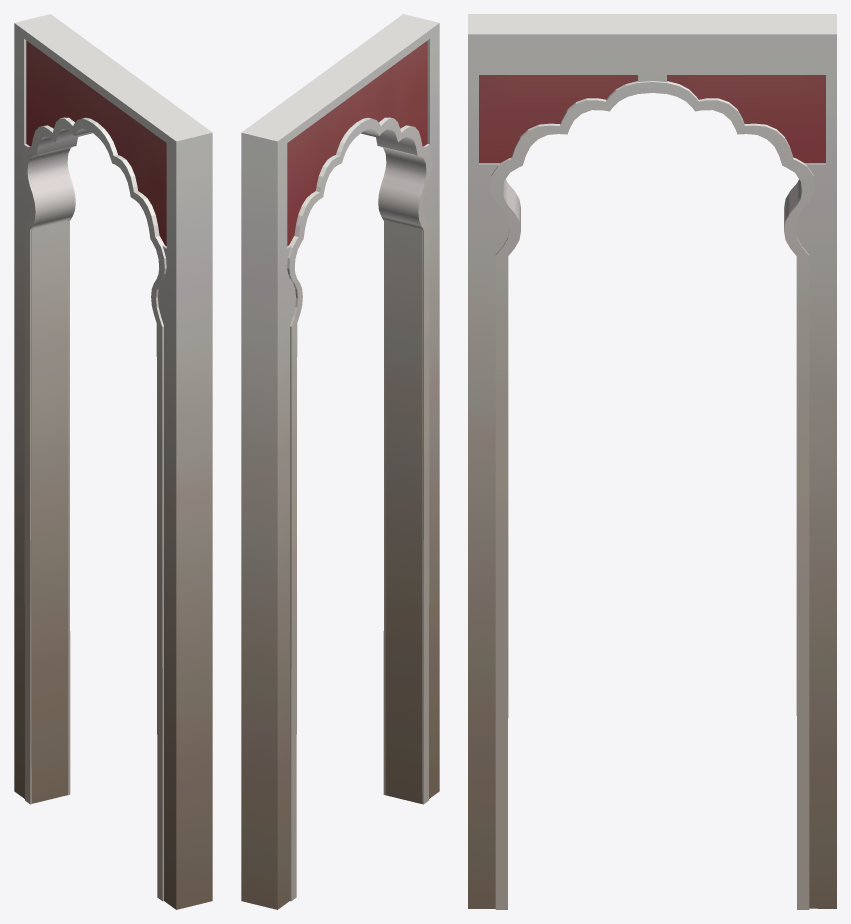
Rendered from M_Arch_01.fbx.
The picture shows the model from 3 angles, left to right: view 1: azimuth 30°, elevation 25°; view 2: azimuth 150°, elevation 25°; view 3: azimuth 270°, elevation 25°; orthographic projection. The views are drawn at different scales.
Parts seen in each view (by area): view 1: M_Arch_01; view 2: M_Arch_01; view 3: M_Arch_01.
Boxes of the visible parts, bbox=[...] form: M_Arch_01: bbox=[14, 14, 212, 909]; M_Arch_01: bbox=[241, 14, 439, 909]; M_Arch_01: bbox=[468, 14, 836, 909].
Bounding box in the file's own units: 166 × 3031 × 1159.
Materials: 1 (1 with a texture image).
